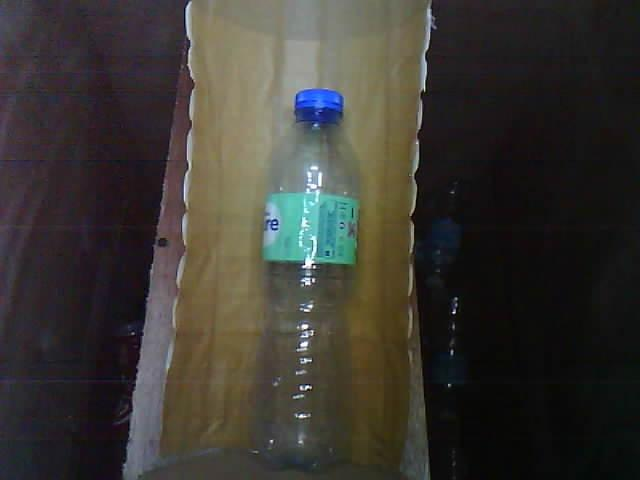small_bottle: (242, 77, 385, 480)
